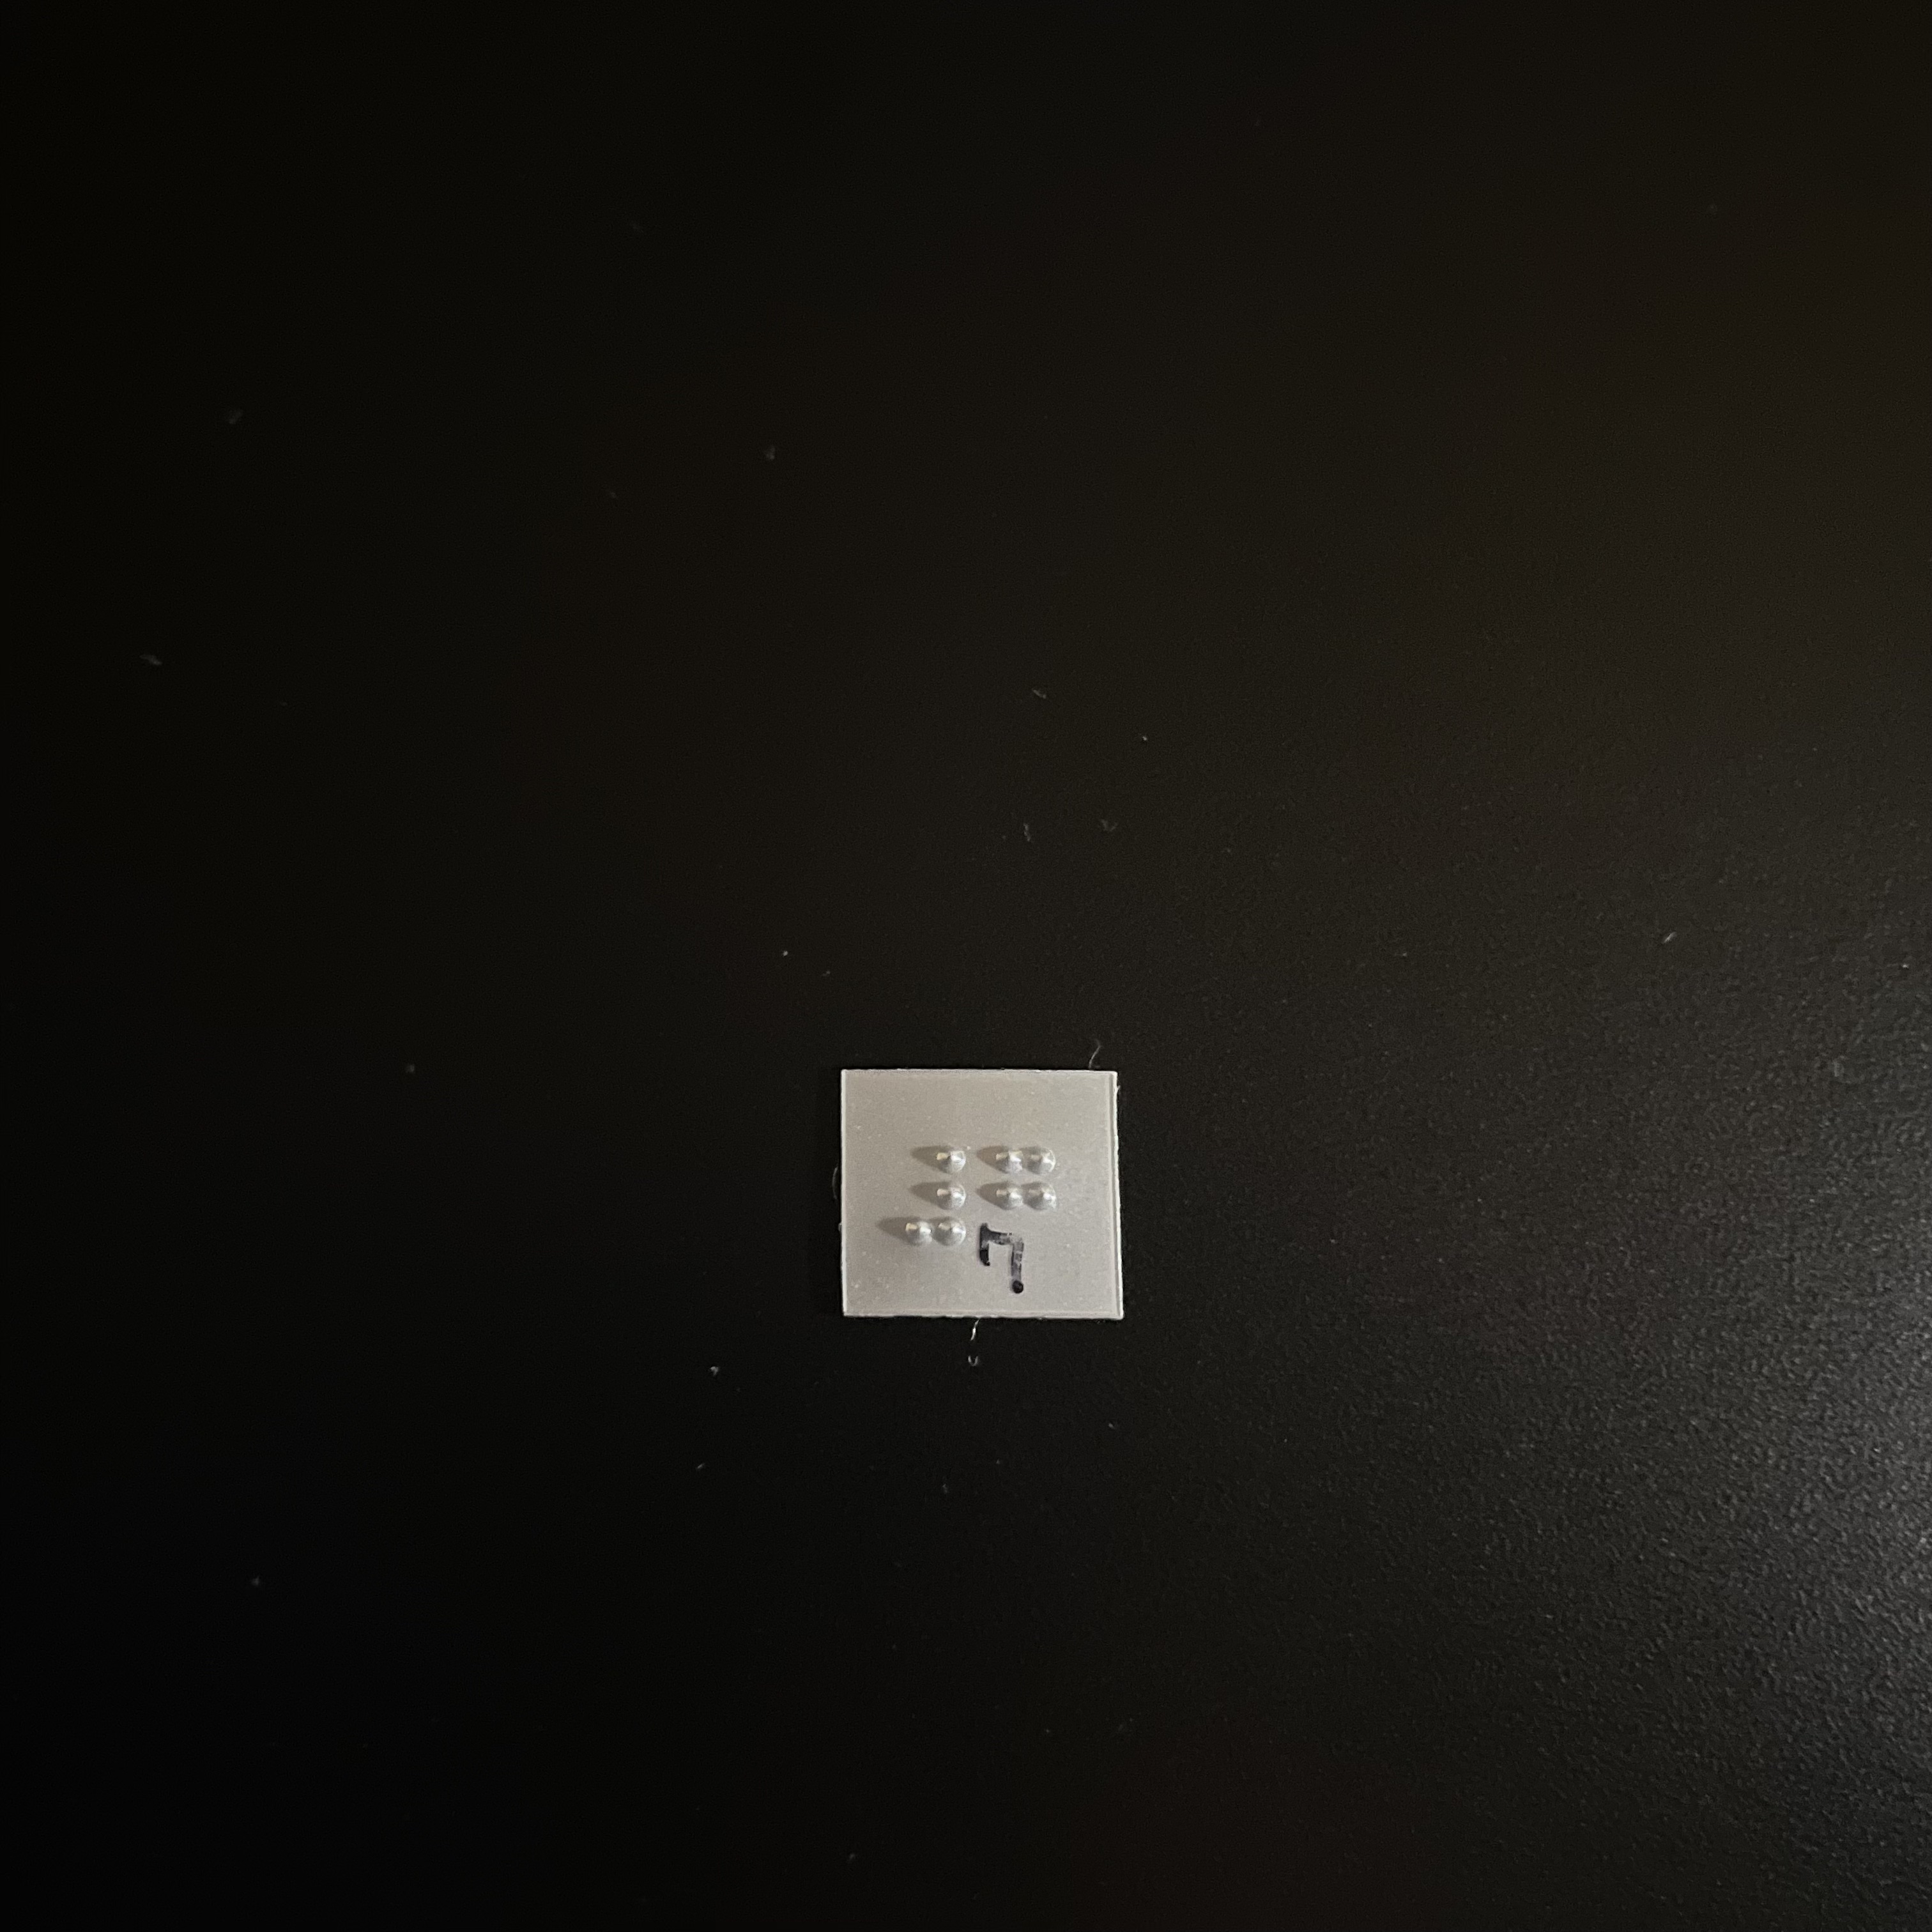#: (884, 1147, 976, 1255)
g: (981, 1146, 1060, 1262)
